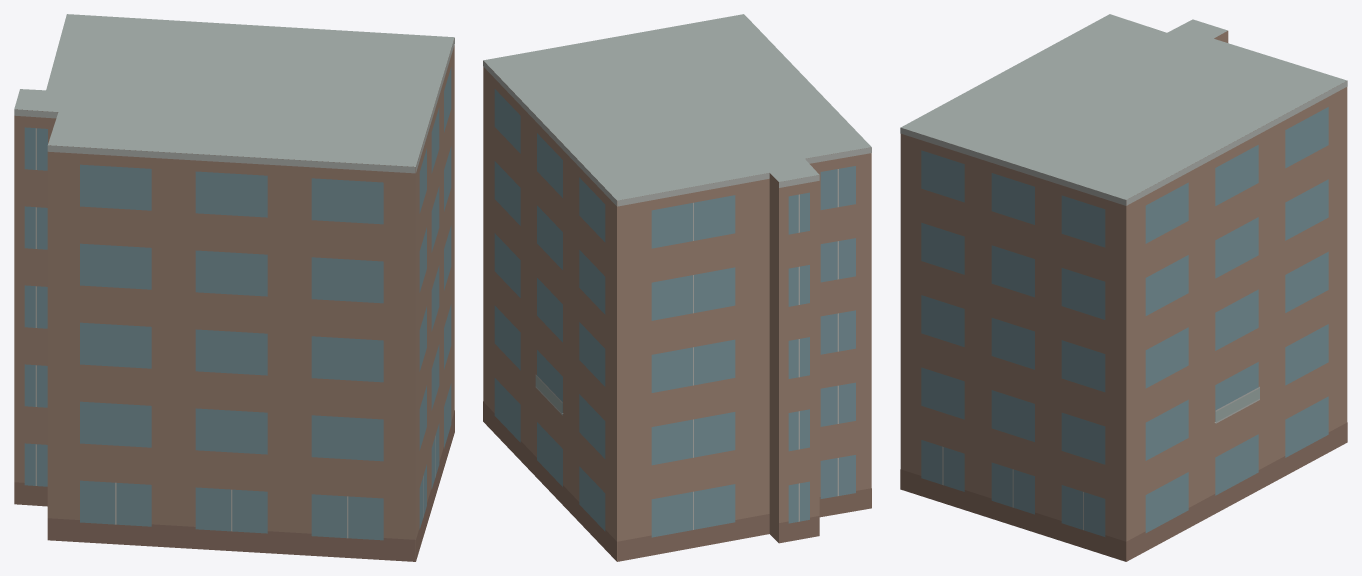
The model's file is survey-upis-32889195.glb.
The picture shows the model from 3 angles, left to right: view 1: azimuth 30°, elevation 25°; view 2: azimuth 150°, elevation 25°; view 3: azimuth 270°, elevation 25°; orthographic projection. The views are drawn at different scales.
Parts seen in each view (by area): view 1: survey-upis-32889195.tmp; view 2: survey-upis-32889195.tmp; view 3: survey-upis-32889195.tmp.
Part boxes in pixels (x1,y1,x2,y2): survey-upis-32889195.tmp: [14, 14, 454, 561]; survey-upis-32889195.tmp: [483, 14, 871, 561]; survey-upis-32889195.tmp: [900, 14, 1347, 561].
Bounding box in the file's own units: 16.32 × 14.8 × 16.57.
